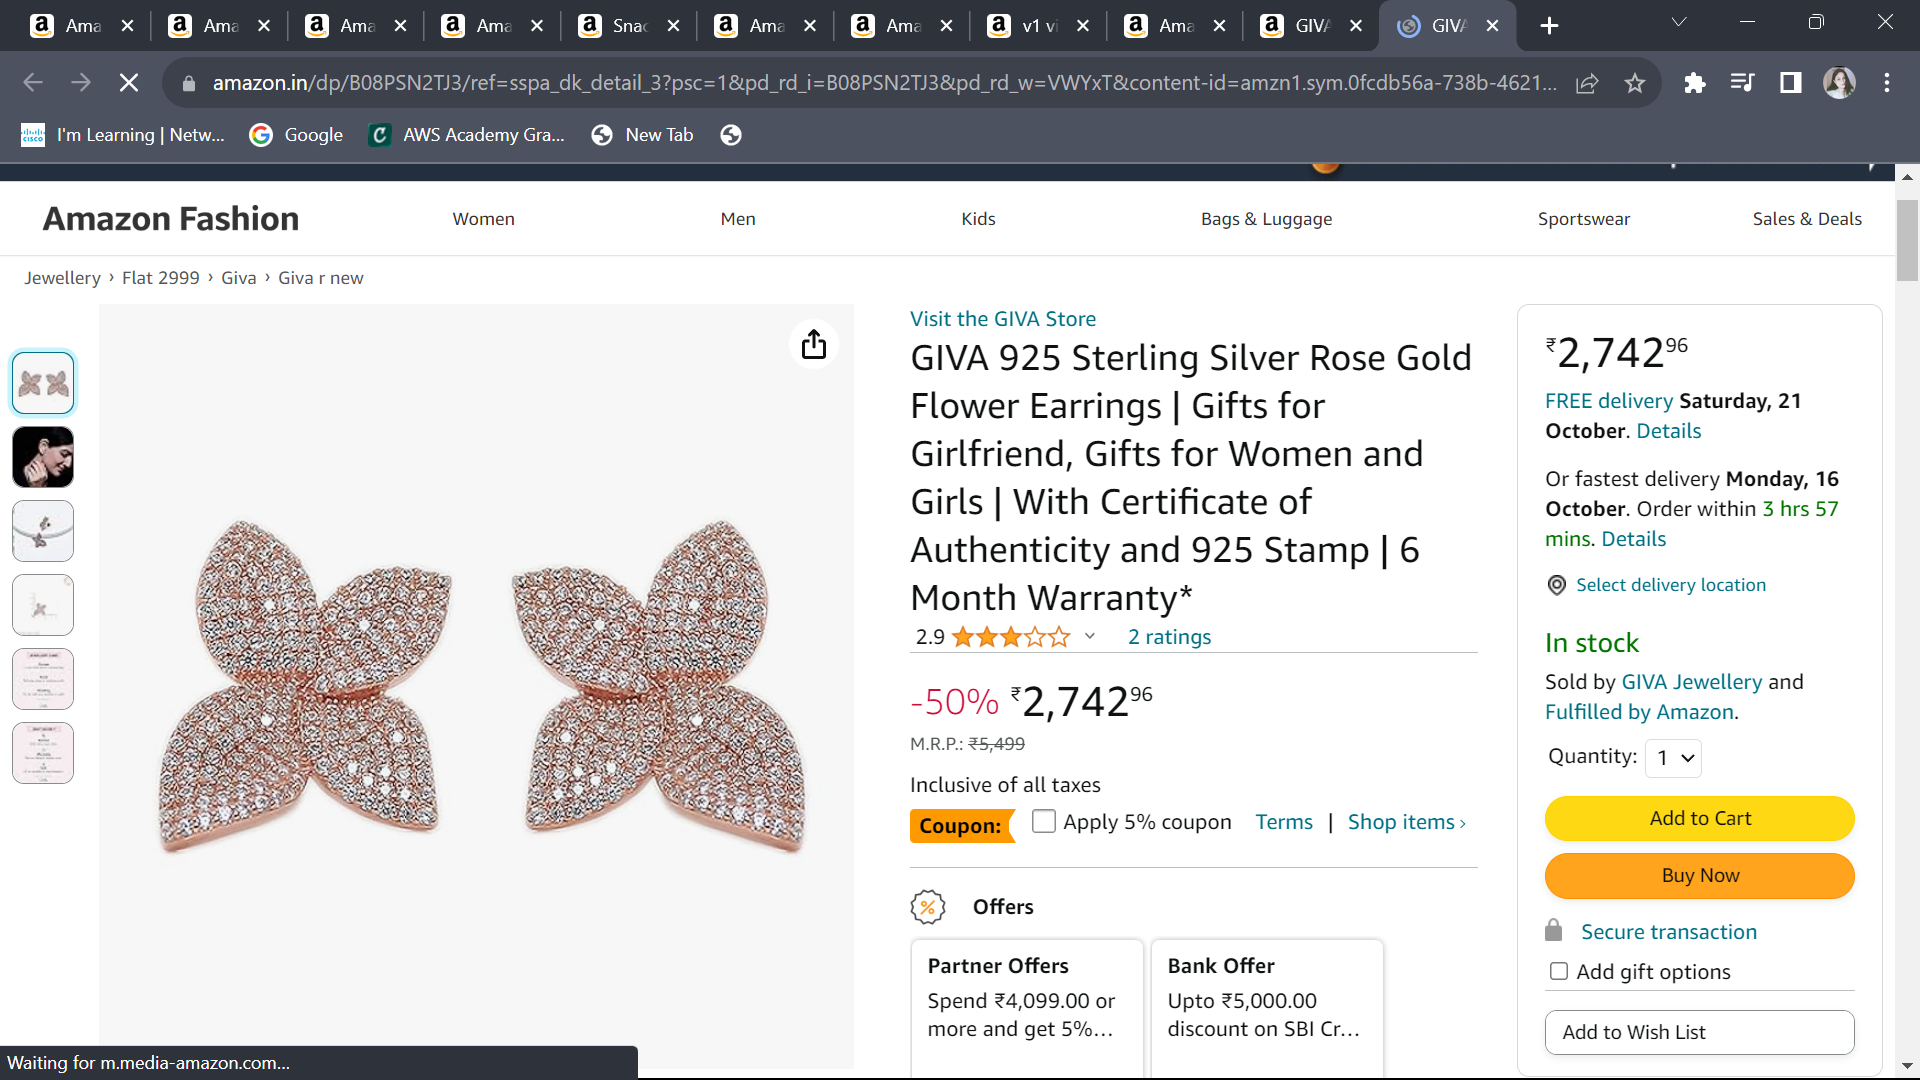Image: (165, 484, 818, 980)
Paragraph: (902, 323, 1516, 621), (872, 884, 1389, 1080), (1538, 382, 1873, 555), (1520, 791, 1884, 907), (1499, 914, 1849, 1004), (1540, 630, 1828, 732), (872, 800, 1505, 836), (905, 680, 1179, 758), (1505, 1004, 1882, 1042), (1540, 562, 1788, 607), (1547, 323, 1750, 373), (1538, 749, 1731, 782), (893, 307, 1102, 335)
